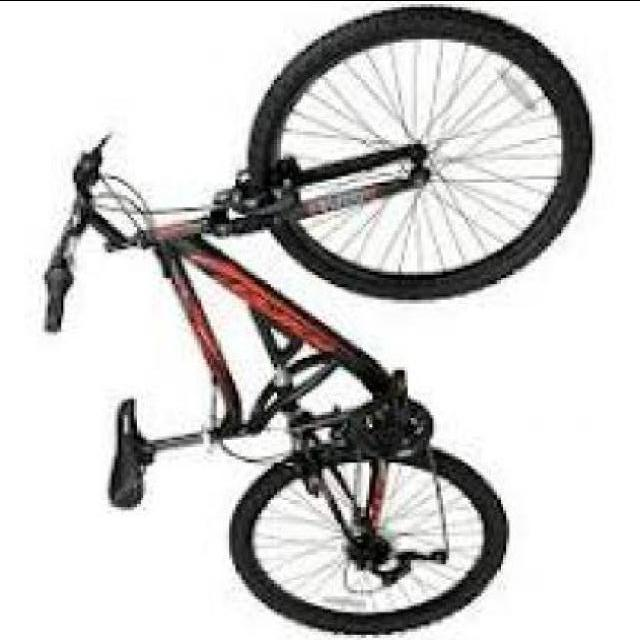bicycle: (33, 1, 597, 638)
